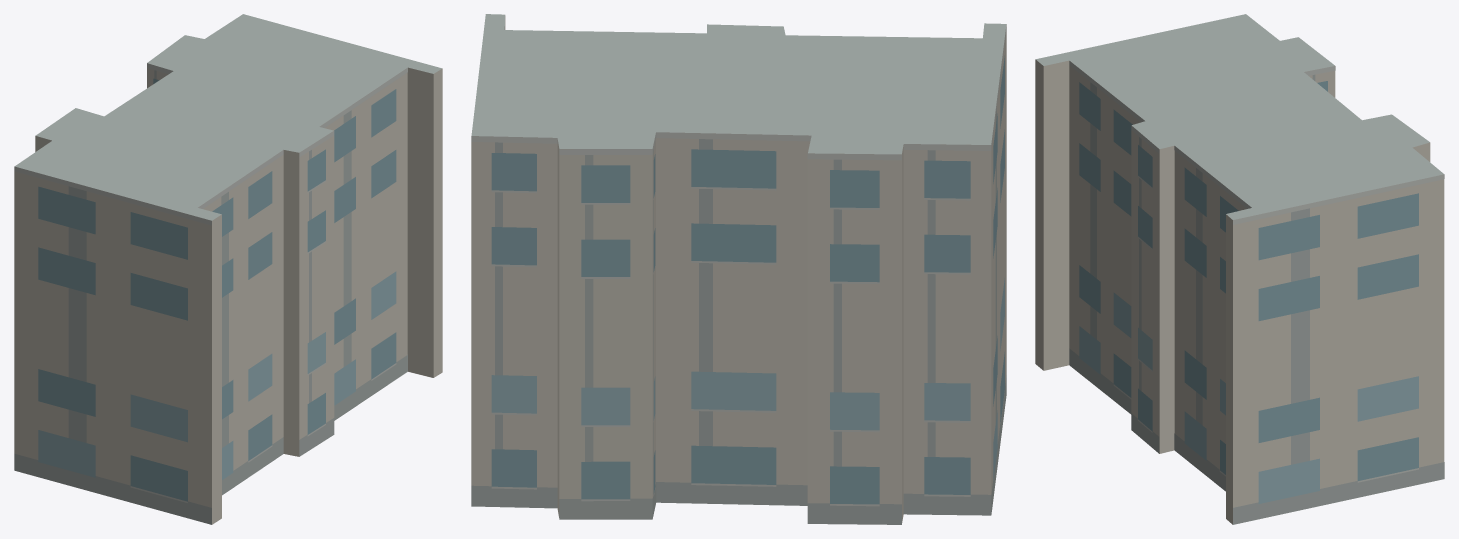
File: survey-upis-32770004.glb
The picture shows the model from 3 angles, left to right: view 1: azimuth 30°, elevation 25°; view 2: azimuth 150°, elevation 25°; view 3: azimuth 270°, elevation 25°; orthographic projection. The views are drawn at different scales.
Parts seen in each view (by area): view 1: survey-upis-32770004.tmp; view 2: survey-upis-32770004.tmp; view 3: survey-upis-32770004.tmp.
Boxes of the visible parts, bbox=[...] form: survey-upis-32770004.tmp: bbox=[14, 14, 442, 524]; survey-upis-32770004.tmp: bbox=[471, 14, 1006, 524]; survey-upis-32770004.tmp: bbox=[1035, 14, 1444, 524].
Size of the model in its own units: 22.13 by 15.25 by 18.55.
